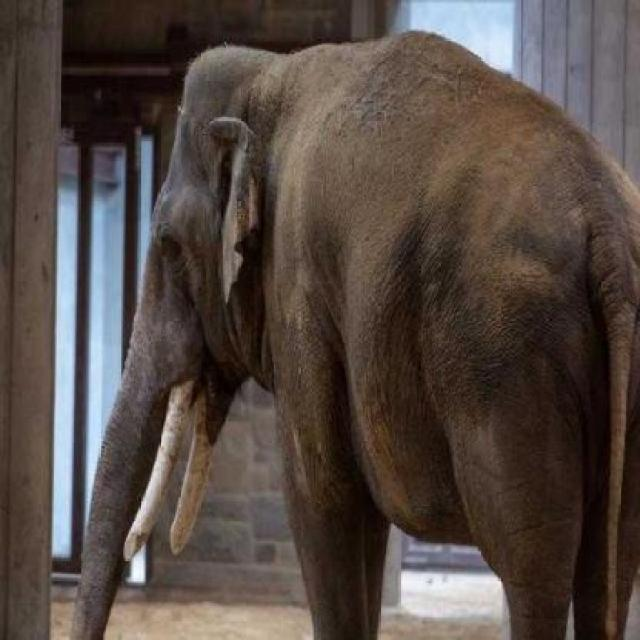Elephant: (55, 29, 636, 637)
